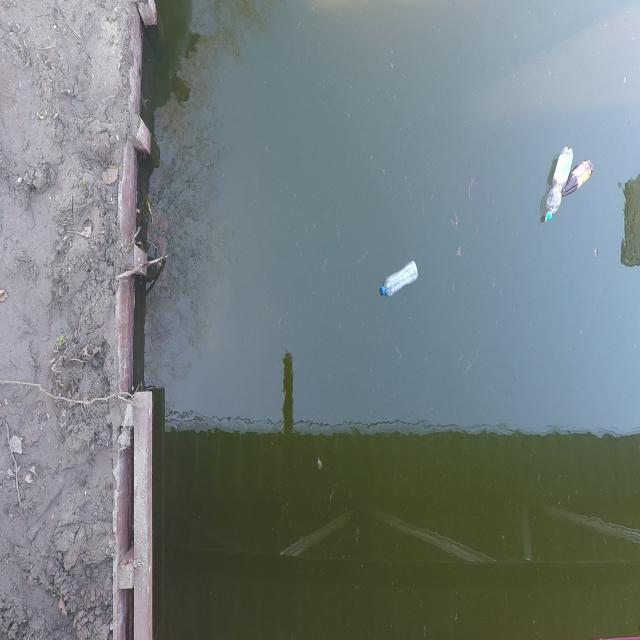Bouteille plastique: (548, 148, 574, 216), (382, 262, 418, 297), (562, 158, 592, 195)
